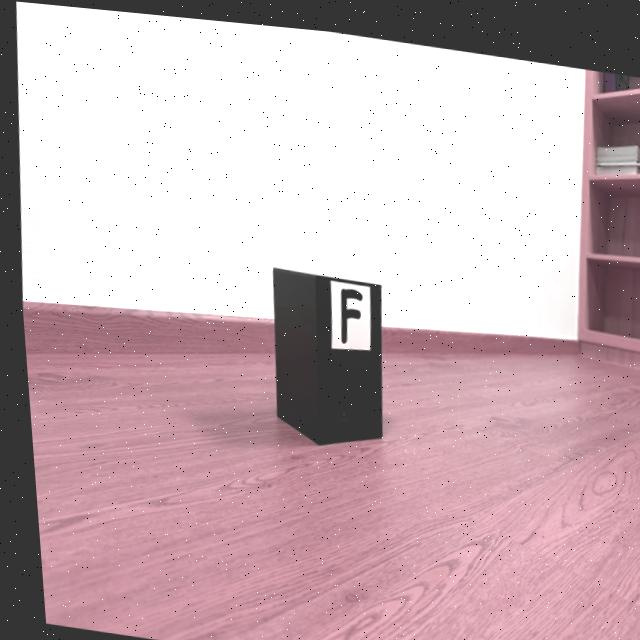F: (336, 281, 358, 338)
